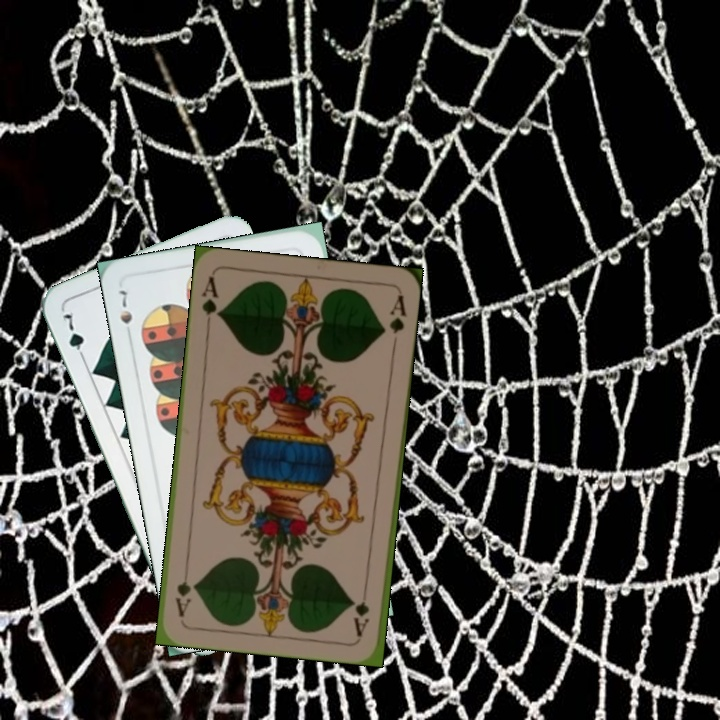G7: (58, 308, 89, 364)
GA: (197, 272, 223, 332), (351, 579, 372, 638)
S7: (114, 286, 135, 327)
